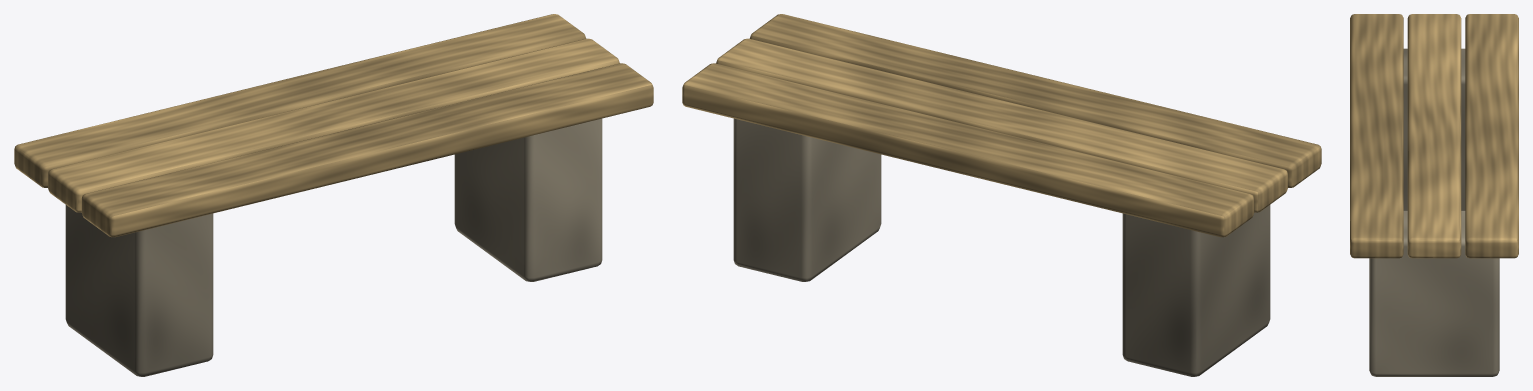
The model's file is Furn_Spa_Bench.fbx.
The picture shows the model from 3 angles, left to right: view 1: azimuth 30°, elevation 25°; view 2: azimuth 150°, elevation 25°; view 3: azimuth 270°, elevation 25°; orthographic projection. The views are drawn at different scales.
Parts seen in each view (by area): view 1: Furn_Spa_Bench; view 2: Furn_Spa_Bench; view 3: Furn_Spa_Bench.
Part boxes in pixels (left/top/right/bottom): Furn_Spa_Bench: left=14, top=14, right=653, bottom=376; Furn_Spa_Bench: left=682, top=14, right=1321, bottom=376; Furn_Spa_Bench: left=1350, top=14, right=1518, bottom=376.
Size of the model in its own units: 1.4 by 0.45 by 0.44.
2 materials, 2 textured.
